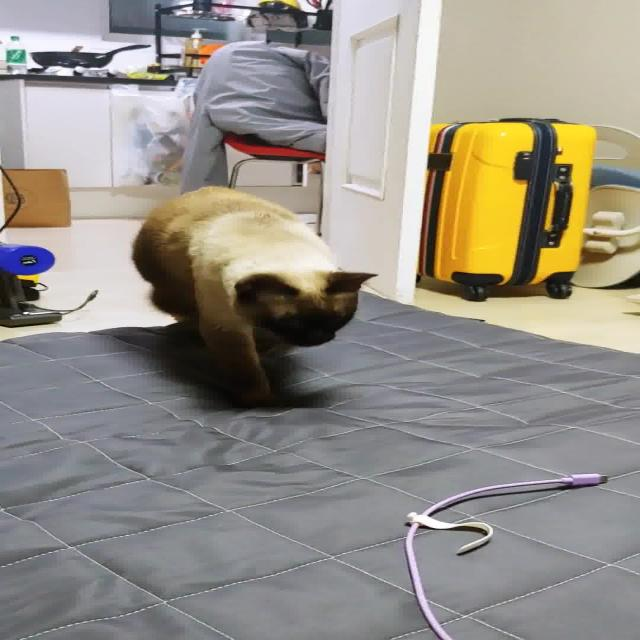cat: (113, 177, 406, 406)
